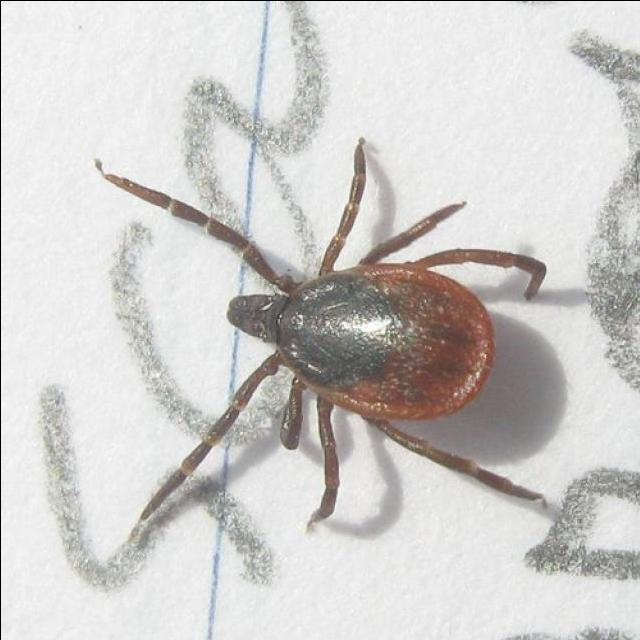Ixodes Ricinus-F: (96, 143, 545, 545)
